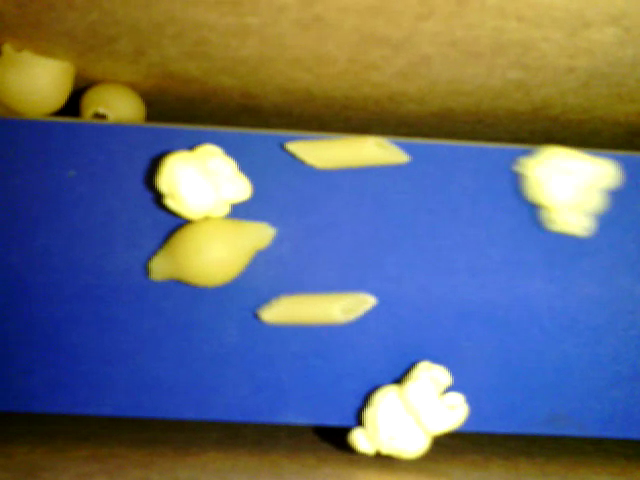penne: (284, 138, 411, 170), (256, 293, 377, 324)
shell: (147, 219, 275, 286), (1, 43, 74, 115), (80, 82, 145, 122)
